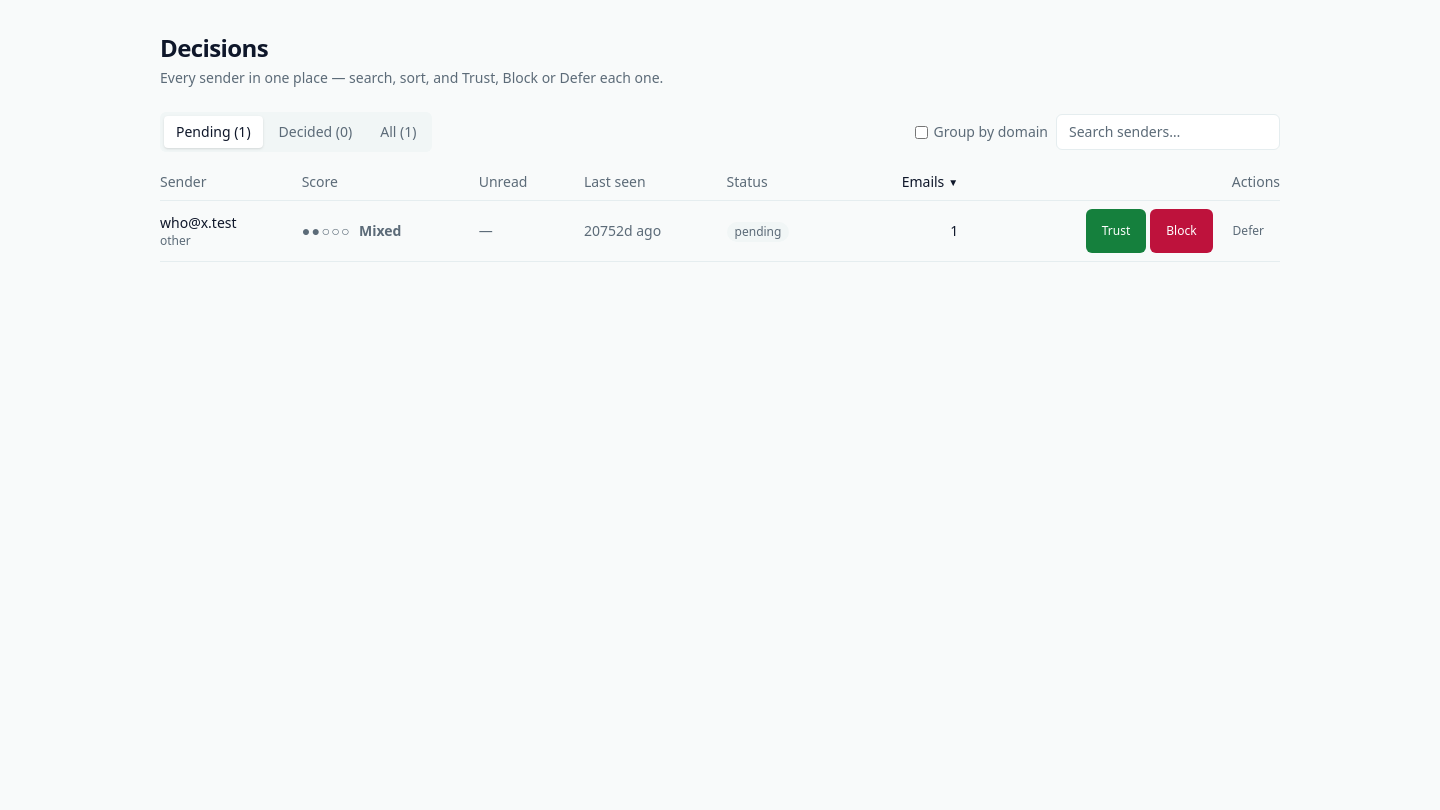
Test: Dashboard — decisions surface › opens the detail panel when a row is clicked
Click the text "who@x.test". click: (198, 222)
box: [160,213,237,232]
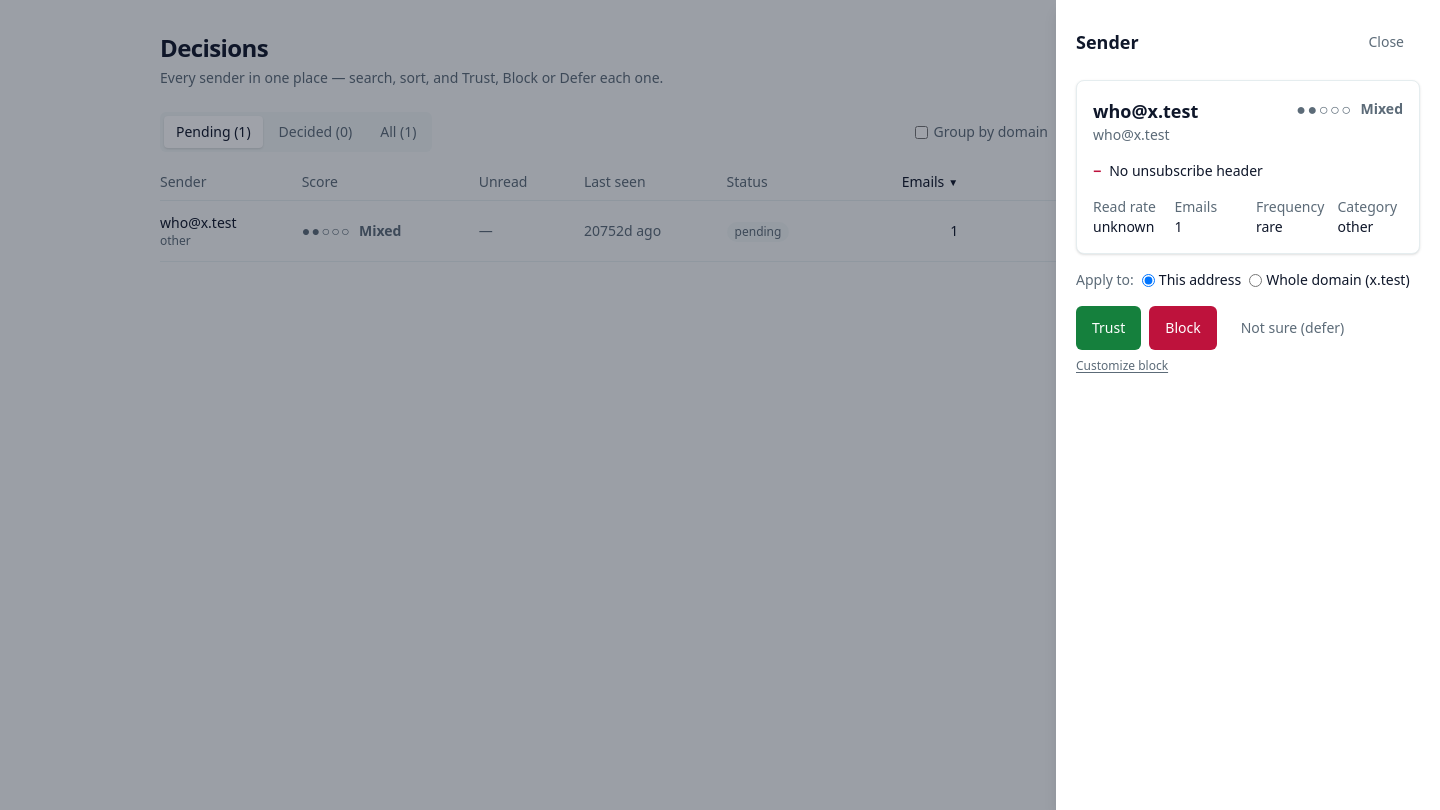
Expected: the dialog named "actions for who@x.test" is shown, [1056,0,1439,809]
